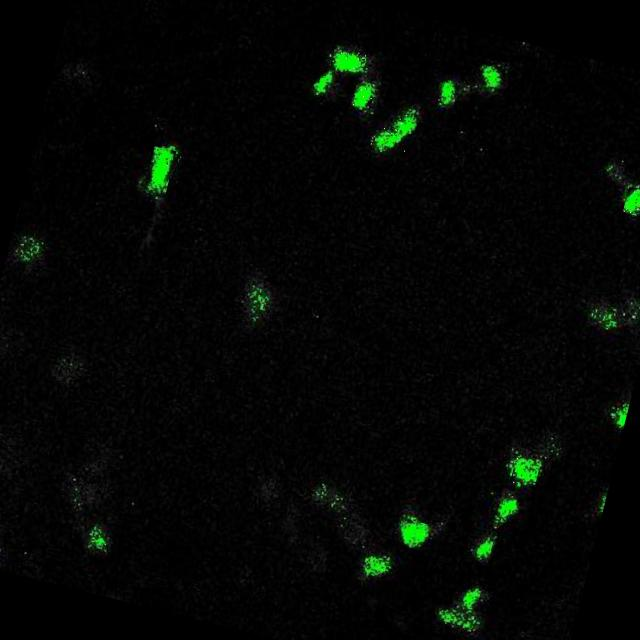Cell: (369, 105, 418, 156), (141, 144, 179, 198), (394, 516, 431, 552), (329, 44, 366, 76), (510, 454, 540, 486), (476, 61, 507, 89), (434, 78, 459, 106), (352, 82, 375, 109), (621, 184, 640, 216)
